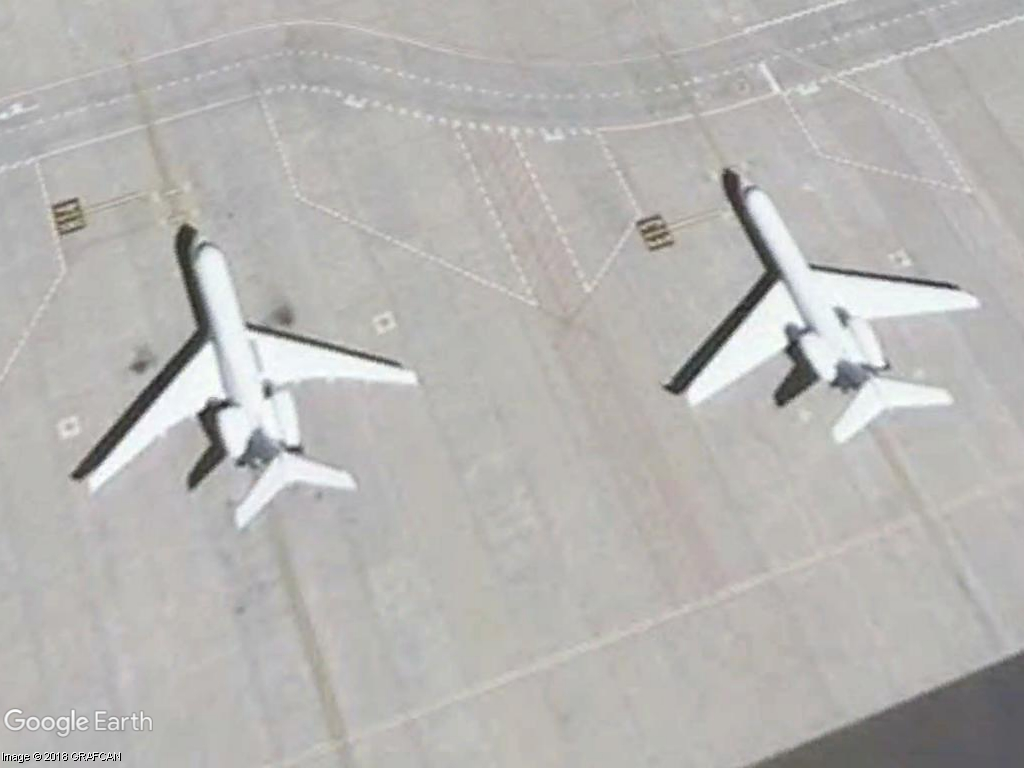chartered: (51, 235, 436, 538), (657, 164, 990, 455)
